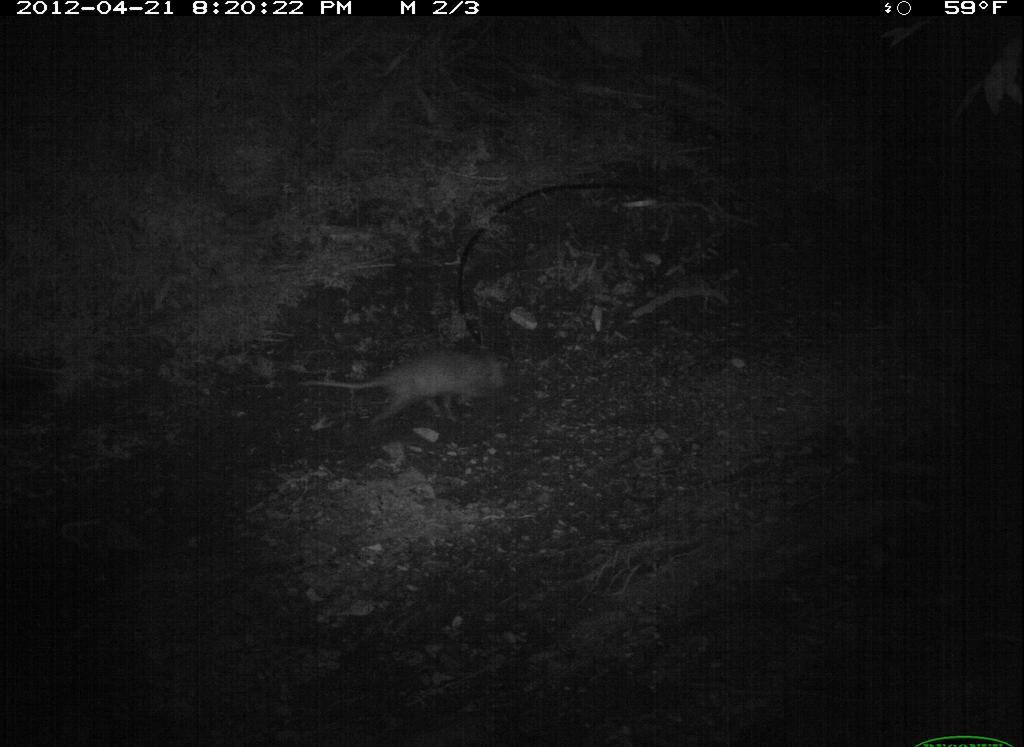opossum: (292, 346, 519, 434)
